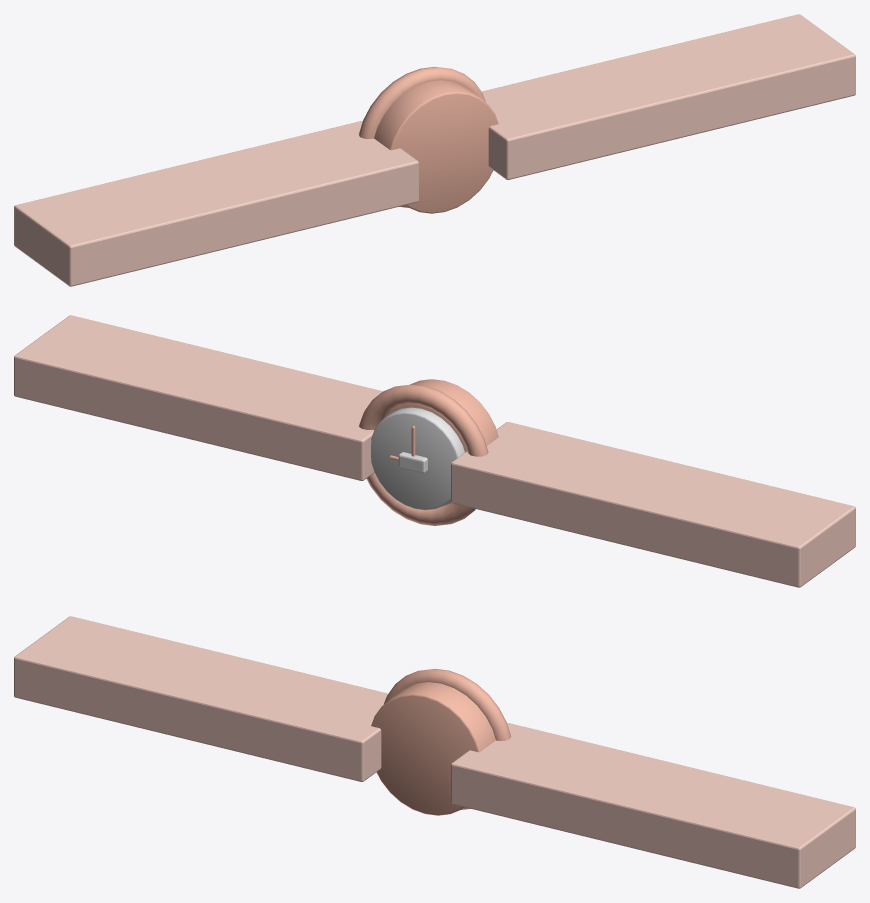
The model's file is VM-ACC-EXT95.glb.
The picture shows the model from 3 angles, top to bottom: view 1: azimuth 30°, elevation 25°; view 2: azimuth 150°, elevation 25°; view 3: azimuth 330°, elevation 25°; orthographic projection.
Parts seen in each view (by area): view 1: Rolex Cellini Date Esfera Negra; view 2: Rolex Cellini Date Esfera Negra; view 3: Rolex Cellini Date Esfera Negra.
Part boxes in pixels (left/top/right/bottom): Rolex Cellini Date Esfera Negra: left=14, top=14, right=855, bottom=286; Rolex Cellini Date Esfera Negra: left=14, top=315, right=855, bottom=587; Rolex Cellini Date Esfera Negra: left=14, top=616, right=855, bottom=888.
Size of the model in its own units: 0.4045 by 0.0674 by 0.0506.
